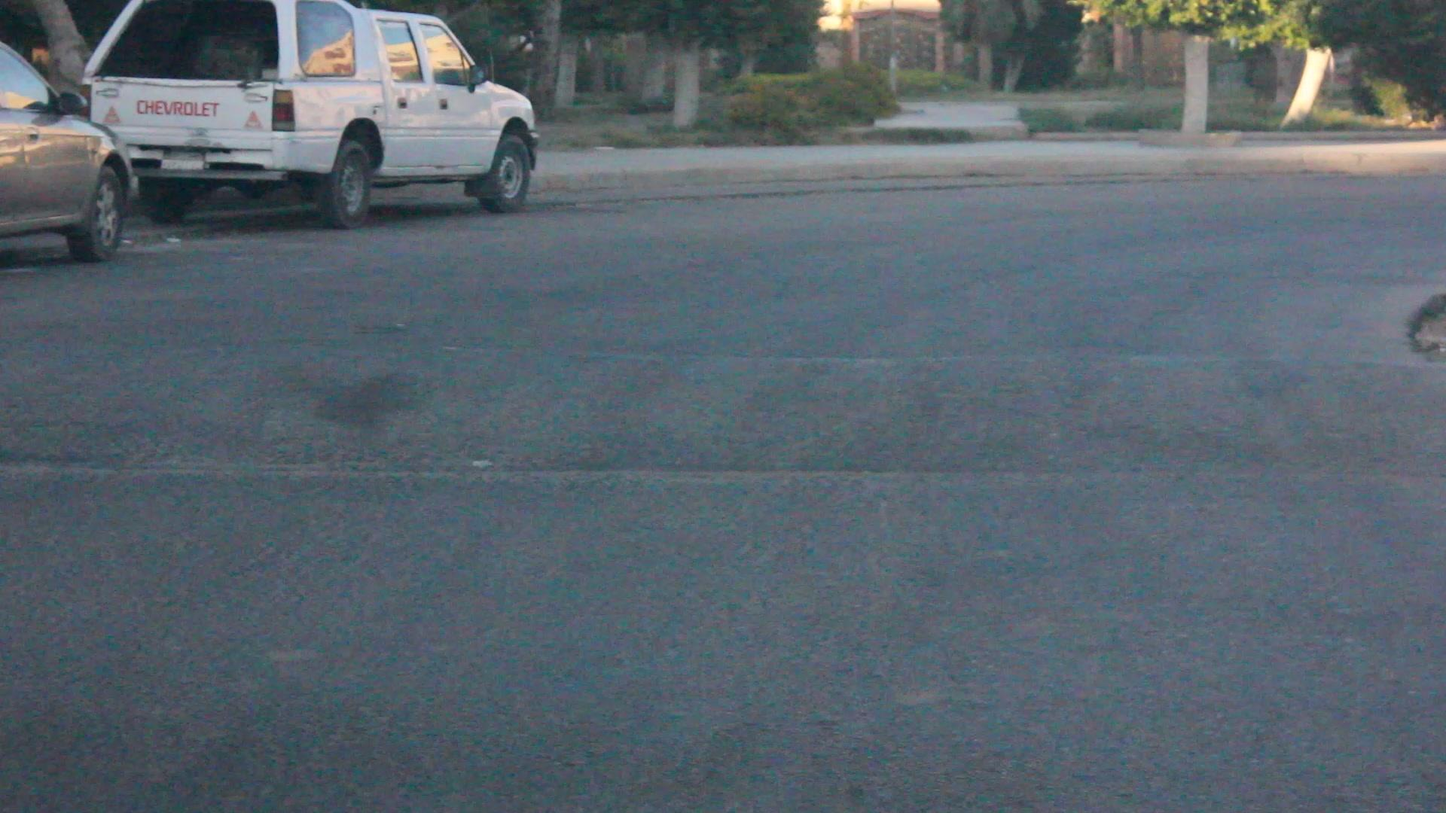Bump: (23, 337, 1446, 474)
